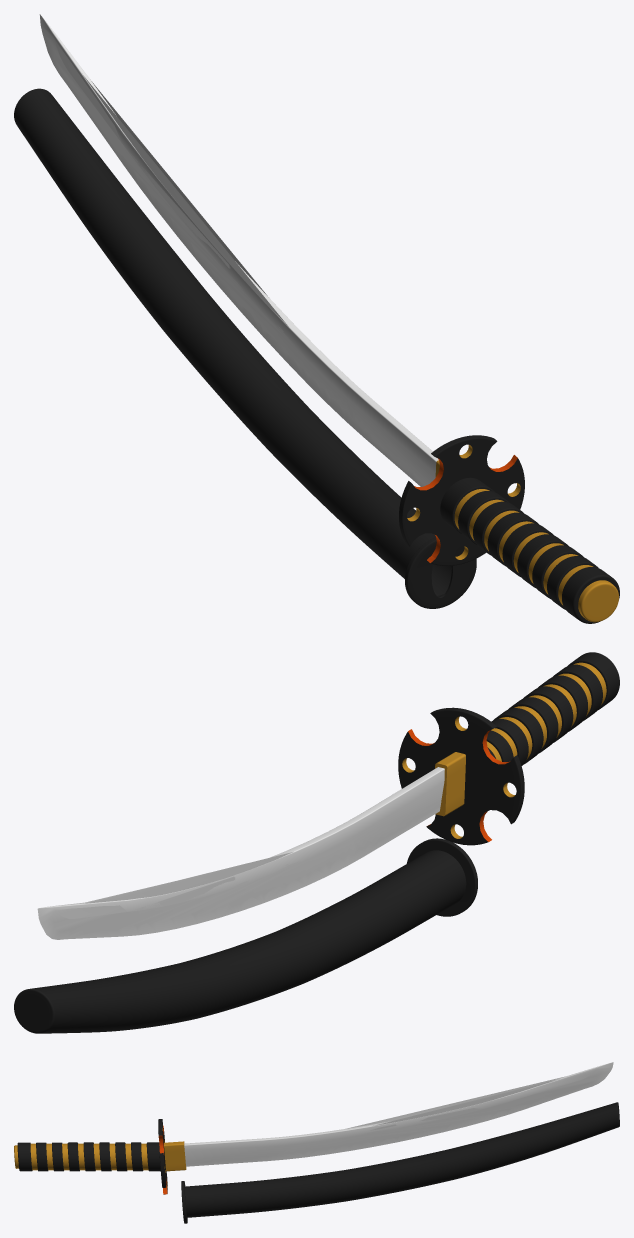
The model's file is katana.fbx.
3 views of the same model, one above another, from view 1: azimuth 30°, elevation 25°; view 2: azimuth 150°, elevation 25°; view 3: azimuth 270°, elevation 25° (orthographic). The views are drawn at different scales.
Parts seen in each view (by area): view 1: Kilif_Cylinder.006, katana_Plane.002; view 2: katana_Plane.002, Kilif_Cylinder.006; view 3: katana_Plane.002, Kilif_Cylinder.006.
Part boxes in pixels (x1,y1,x2,y2): Kilif_Cylinder.006: [14, 88, 476, 608]; katana_Plane.002: [39, 14, 619, 623]; katana_Plane.002: [37, 652, 619, 939]; Kilif_Cylinder.006: [14, 838, 477, 1033]; katana_Plane.002: [14, 1062, 613, 1194]; Kilif_Cylinder.006: [181, 1102, 619, 1223].
Size of the model in its own units: 50.82 by 118 by 407.
